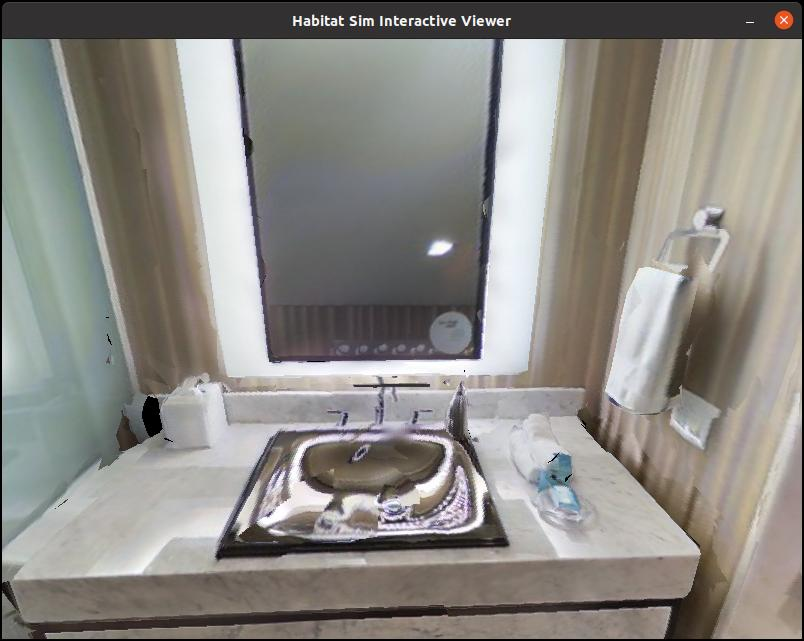sink: (206, 358, 514, 605)
